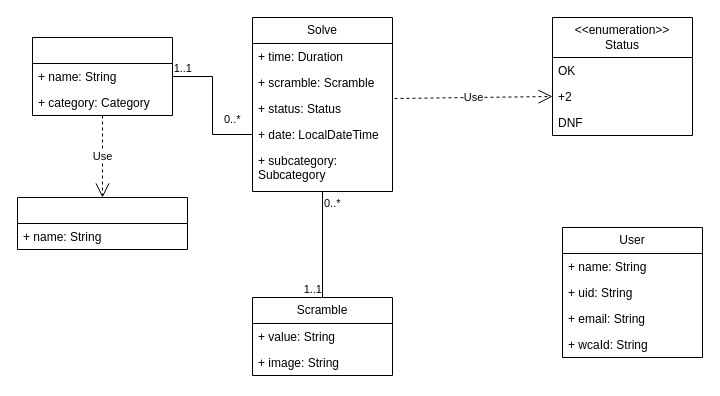
The diagram is 720 pixels wide and 396 high, and some of its shapes have lost their labels. Here are the shapes that lost their labels. From the top down, the box of each, then its label:
(32, 36, 172, 116): Subcategory
(16, 196, 188, 250): Category
